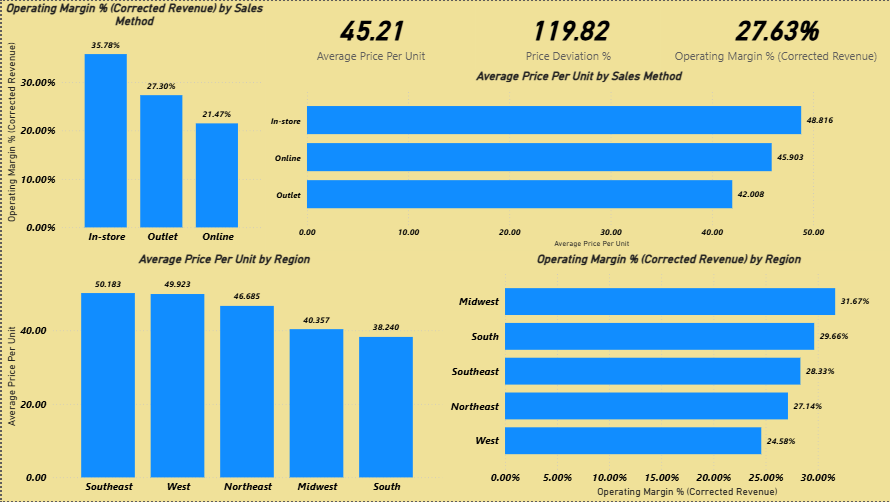

What the dashboard file says about the page in this screenshot:
{"tool":"powerbi","page":{"name":"Pricing & Margin ","canvas":[1280,720],"ordinal":1},"visuals":[{"type":"card","fields":{"Values":["Adidas_Sales.Average Price Per Unit"]},"box":[380.2,0,302.4,97.9],"z":0},{"type":"card","fields":{"Values":["Adidas_Sales.Price Deviation %"]},"box":[682.6,0,266.4,97.9],"z":1000},{"type":"card","fields":{"Values":["Adidas_Sales.Operating Margin % (Corrected Revenue)"]},"box":[949,0,331.2,97.9],"z":2000},{"type":"clusteredColumnChart","fields":{"Category":["Adidas_Sales.Region"],"Y":["Adidas_Sales.Average Price Per Unit"]},"box":[0,361.4,639.4,358.6],"z":3000},{"type":"barChart","fields":{"Category":["Adidas_Sales.Sales Method"],"Y":["Adidas_Sales.Average Price Per Unit"]},"box":[380.2,97.9,900,262.1],"z":4000},{"type":"columnChart","fields":{"Category":["Adidas_Sales.Sales Method"],"Y":["Adidas_Sales.Operating Margin % (Corrected Revenue)"]},"box":[0,0,380.2,360],"z":5000},{"type":"barChart","fields":{"Category":["Adidas_Sales.Region"],"Y":["Adidas_Sales.Operating Margin % (Corrected Revenue)"]},"box":[639.4,361.4,640.8,358.6],"z":6000},{"type":"actionButton","box":[1208.2,0,72,73.4],"z":7000}]}

Visuals, with their boxes in screenshot pixels (x1, y1, x2, y2), scaled from the page's 1280x720 canvas onto the 890x502 screenshot:
card - Adidas_Sales.Average Price Per Unit: pyautogui.locateOnScreen(264, 0, 475, 68)
card - Adidas_Sales.Price Deviation %: pyautogui.locateOnScreen(475, 0, 660, 68)
card - Adidas_Sales.Operating Margin % (Corrected Revenue): pyautogui.locateOnScreen(660, 0, 889, 68)
clusteredColumnChart - Adidas_Sales.Region x Adidas_Sales.Average Price Per Unit: pyautogui.locateOnScreen(0, 252, 445, 501)
barChart - Adidas_Sales.Sales Method x Adidas_Sales.Average Price Per Unit: pyautogui.locateOnScreen(264, 68, 889, 251)
columnChart - Adidas_Sales.Sales Method x Adidas_Sales.Operating Margin % (Corrected Revenue): pyautogui.locateOnScreen(0, 0, 264, 251)
barChart - Adidas_Sales.Region x Adidas_Sales.Operating Margin % (Corrected Revenue): pyautogui.locateOnScreen(445, 252, 889, 501)
actionButton: pyautogui.locateOnScreen(840, 0, 889, 51)
